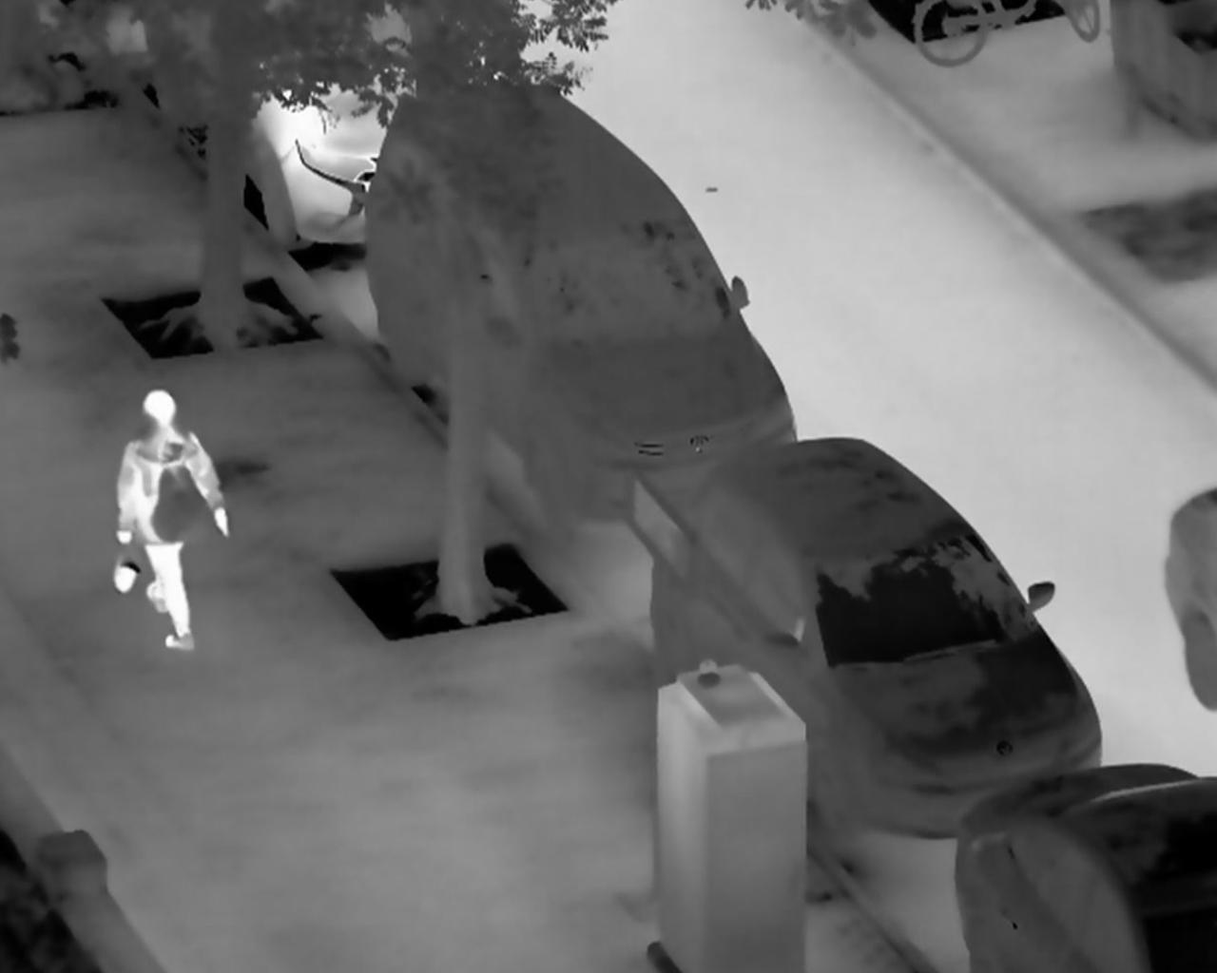person: (115, 387, 230, 655)
